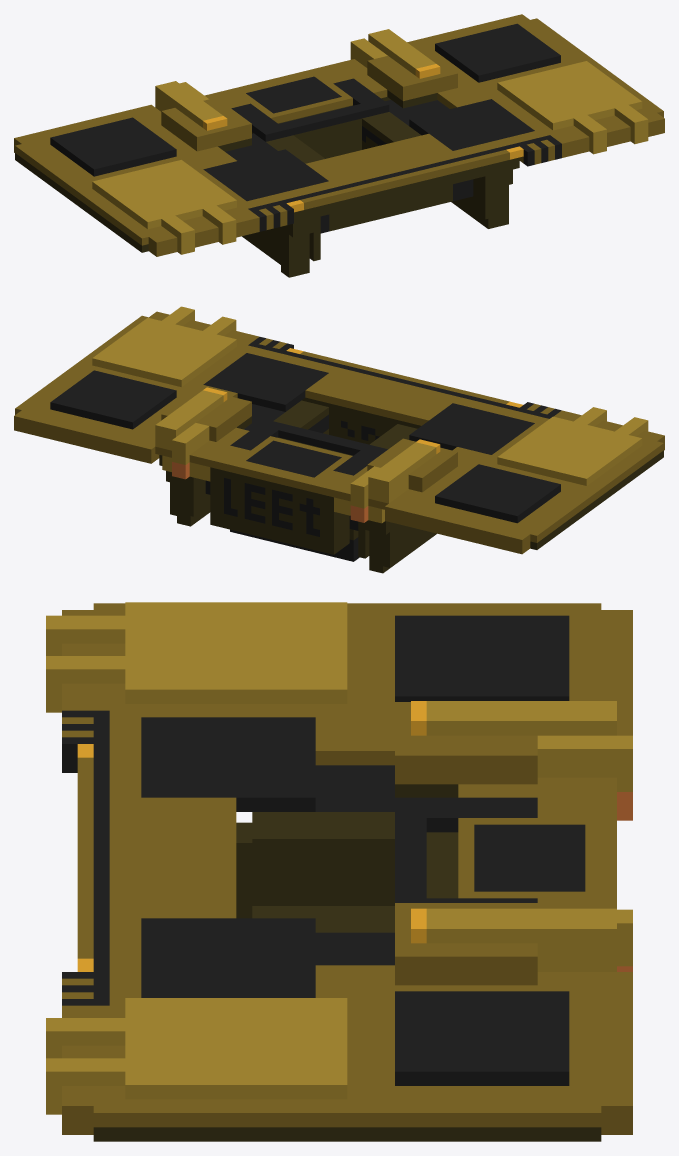
File: boss_final.obj
3 views of the same model, one above another, from view 1: azimuth 30°, elevation 25°; view 2: azimuth 150°, elevation 25°; view 3: azimuth 270°, elevation 25° (orthographic). The views are drawn at different scales.
Size of the model in its own units: 7.6 by 1.5 by 3.7.
Materials: 1 (1 with a texture image).
